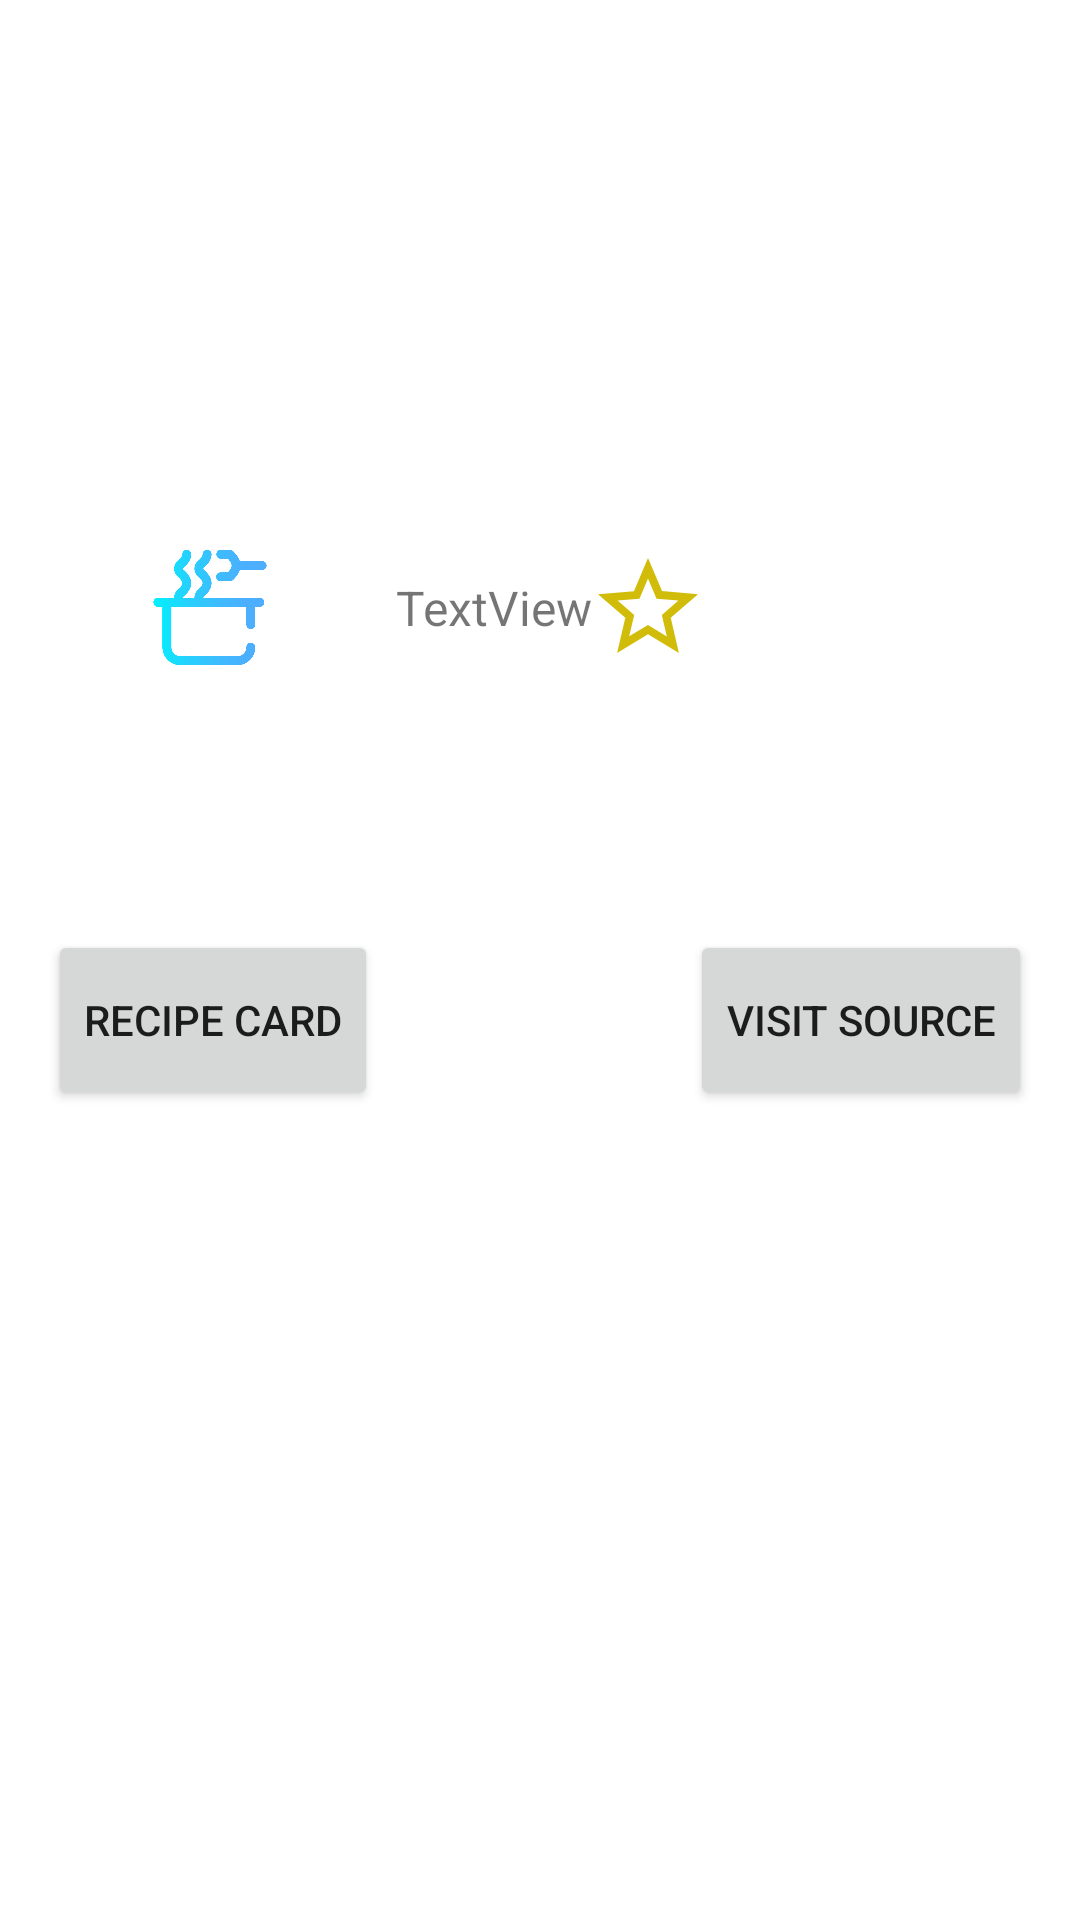

Icon click points for this 1080x1920 phone screenshot, format [x,y]:
star border: [648,605]
